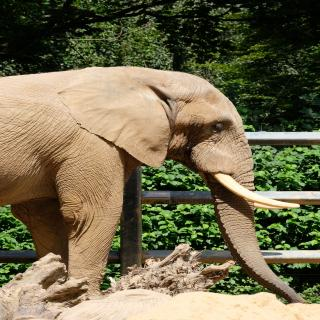Elephant: (0, 64, 320, 307)
